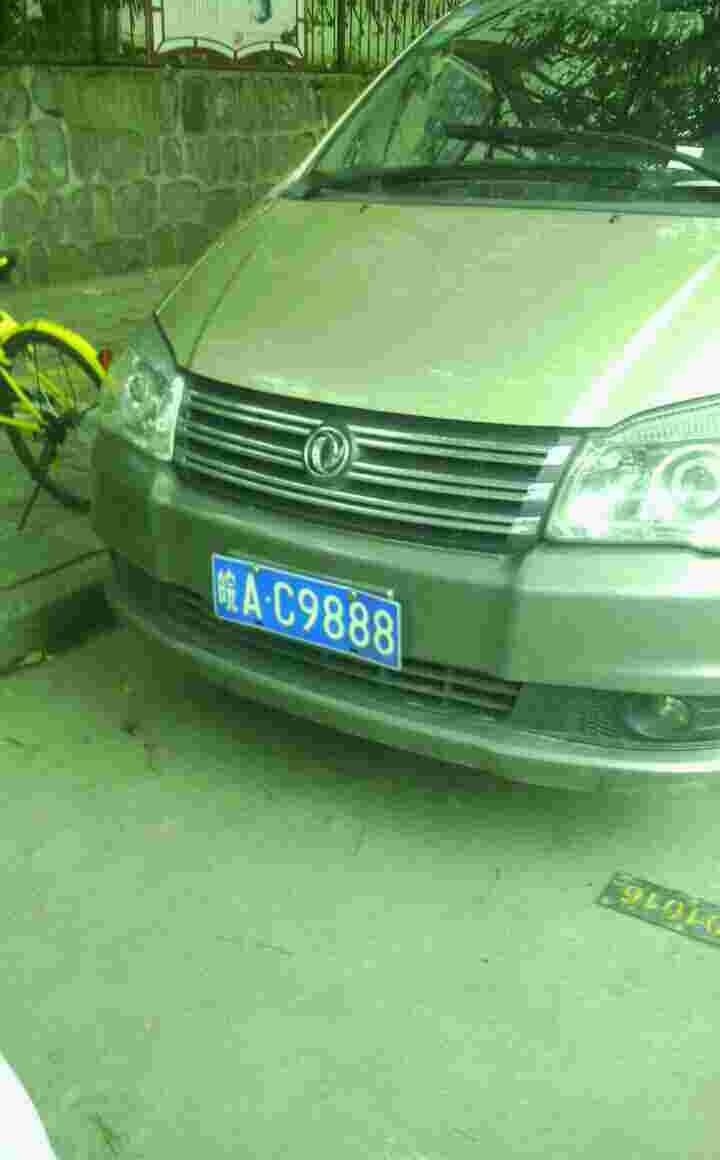license_plate: (201, 547, 408, 664)
